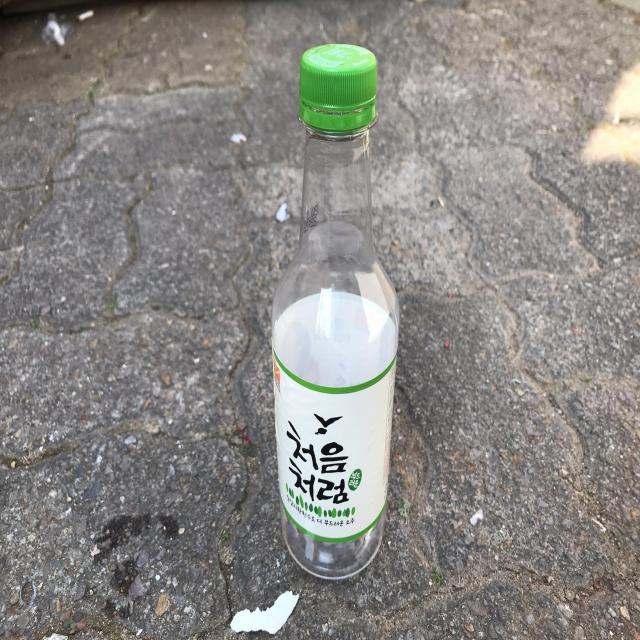plastic: (272, 43, 399, 579)
